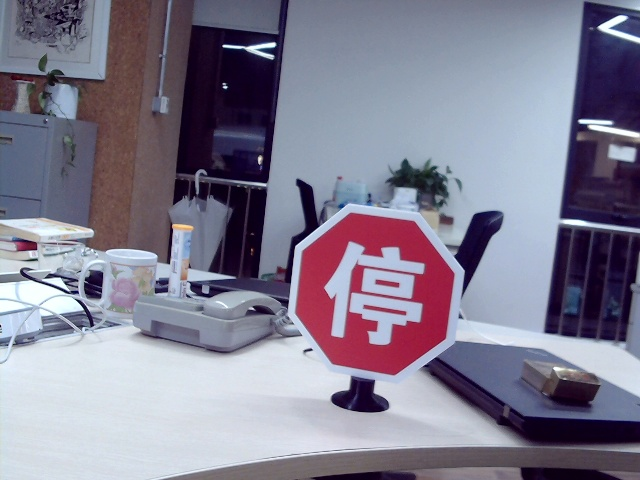stop: (324, 236, 426, 346)
